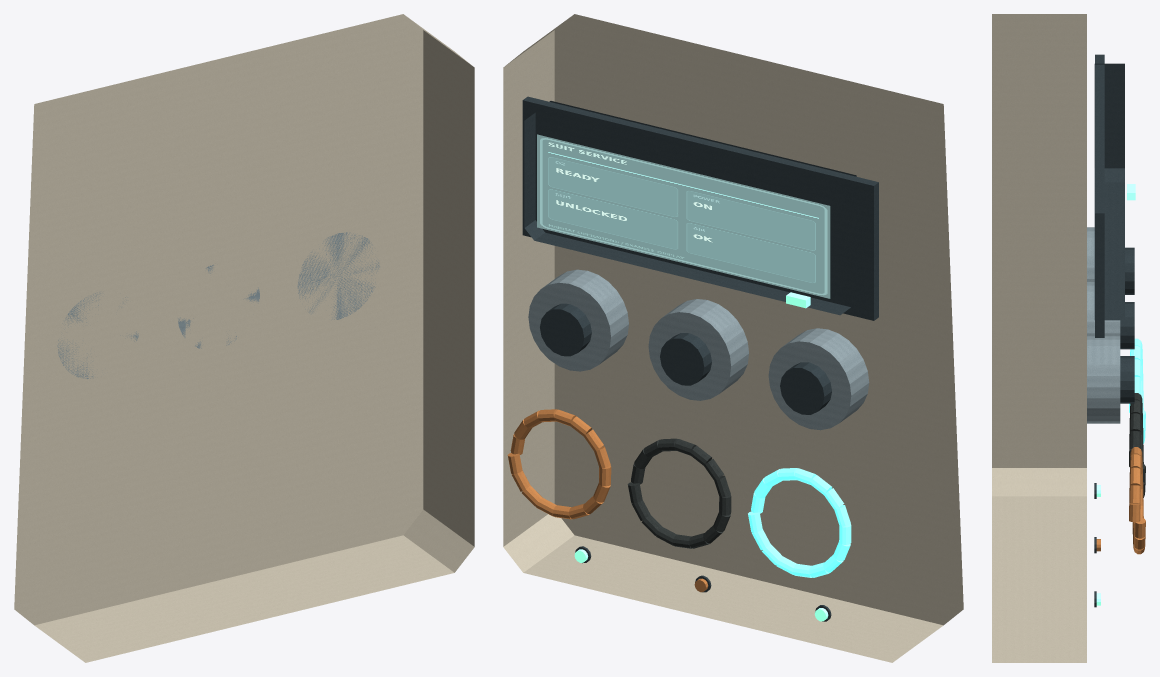
Rendered from suit_service_panel.glb.
3 renders of one model, left to right at view 1: azimuth 30°, elevation 25°; view 2: azimuth 150°, elevation 25°; view 3: azimuth 270°, elevation 25°, orthographic. The views are drawn at different scales.
Visible parts, largest first — view 1: Service_Shell__cream, Umbilical_Sockets__alloy; view 2: Service_Shell__cream, Display__ui_suitservice, Status_Head__graphite, Umbilical_Sockets__alloy, Umbilical_Sockets__graphite, Display__graphite, Umbilical_Hoses__rubber, Umbilical_Hoses__cyan, Umbilical_Hoses__amber; view 3: Service_Shell__cream, Display__graphite, Umbilical_Sockets__alloy, Status_Head__graphite, Umbilical_Sockets__graphite, Umbilical_Hoses__amber, Umbilical_Hoses__rubber, Umbilical_Hoses__cyan.
Boxes of the visible parts, <box> form: Service_Shell__cream: <box>14,14,474,662</box>; Umbilical_Sockets__alloy: <box>57,232,379,378</box>; Service_Shell__cream: <box>503,14,963,662</box>; Display__ui_suitservice: <box>537,134,830,298</box>; Status_Head__graphite: <box>522,96,878,320</box>; Umbilical_Sockets__alloy: <box>528,269,869,430</box>; Umbilical_Sockets__graphite: <box>540,303,831,414</box>; Display__graphite: <box>524,101,856,315</box>; Umbilical_Hoses__rubber: <box>627,438,731,548</box>; Umbilical_Hoses__cyan: <box>748,468,851,577</box>; Umbilical_Hoses__amber: <box>507,409,611,519</box>; Service_Shell__cream: <box>992,14,1086,662</box>; Display__graphite: <box>1094,63,1124,320</box>; Umbilical_Sockets__alloy: <box>1087,227,1120,423</box>; Status_Head__graphite: <box>1095,54,1104,337</box>; Umbilical_Sockets__graphite: <box>1120,247,1134,403</box>; Umbilical_Hoses__amber: <box>1129,447,1145,554</box>; Umbilical_Hoses__rubber: <box>1129,393,1145,497</box>; Umbilical_Hoses__cyan: <box>1129,338,1145,443</box>.
Size of the model in its own units: 0.92 by 1.12 by 0.324.
Materials: 8 (8 with a texture image).
